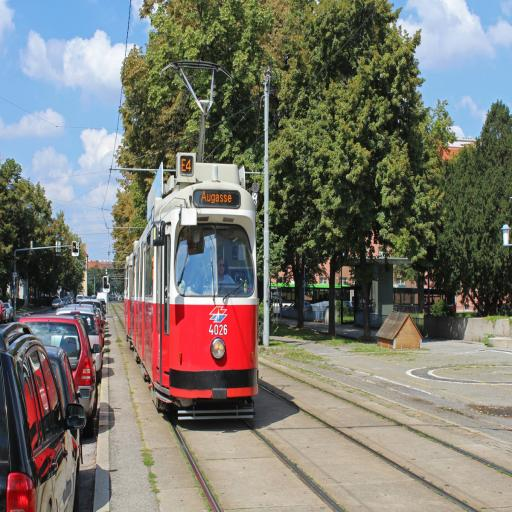E2-Tram: (124, 151, 262, 437)
